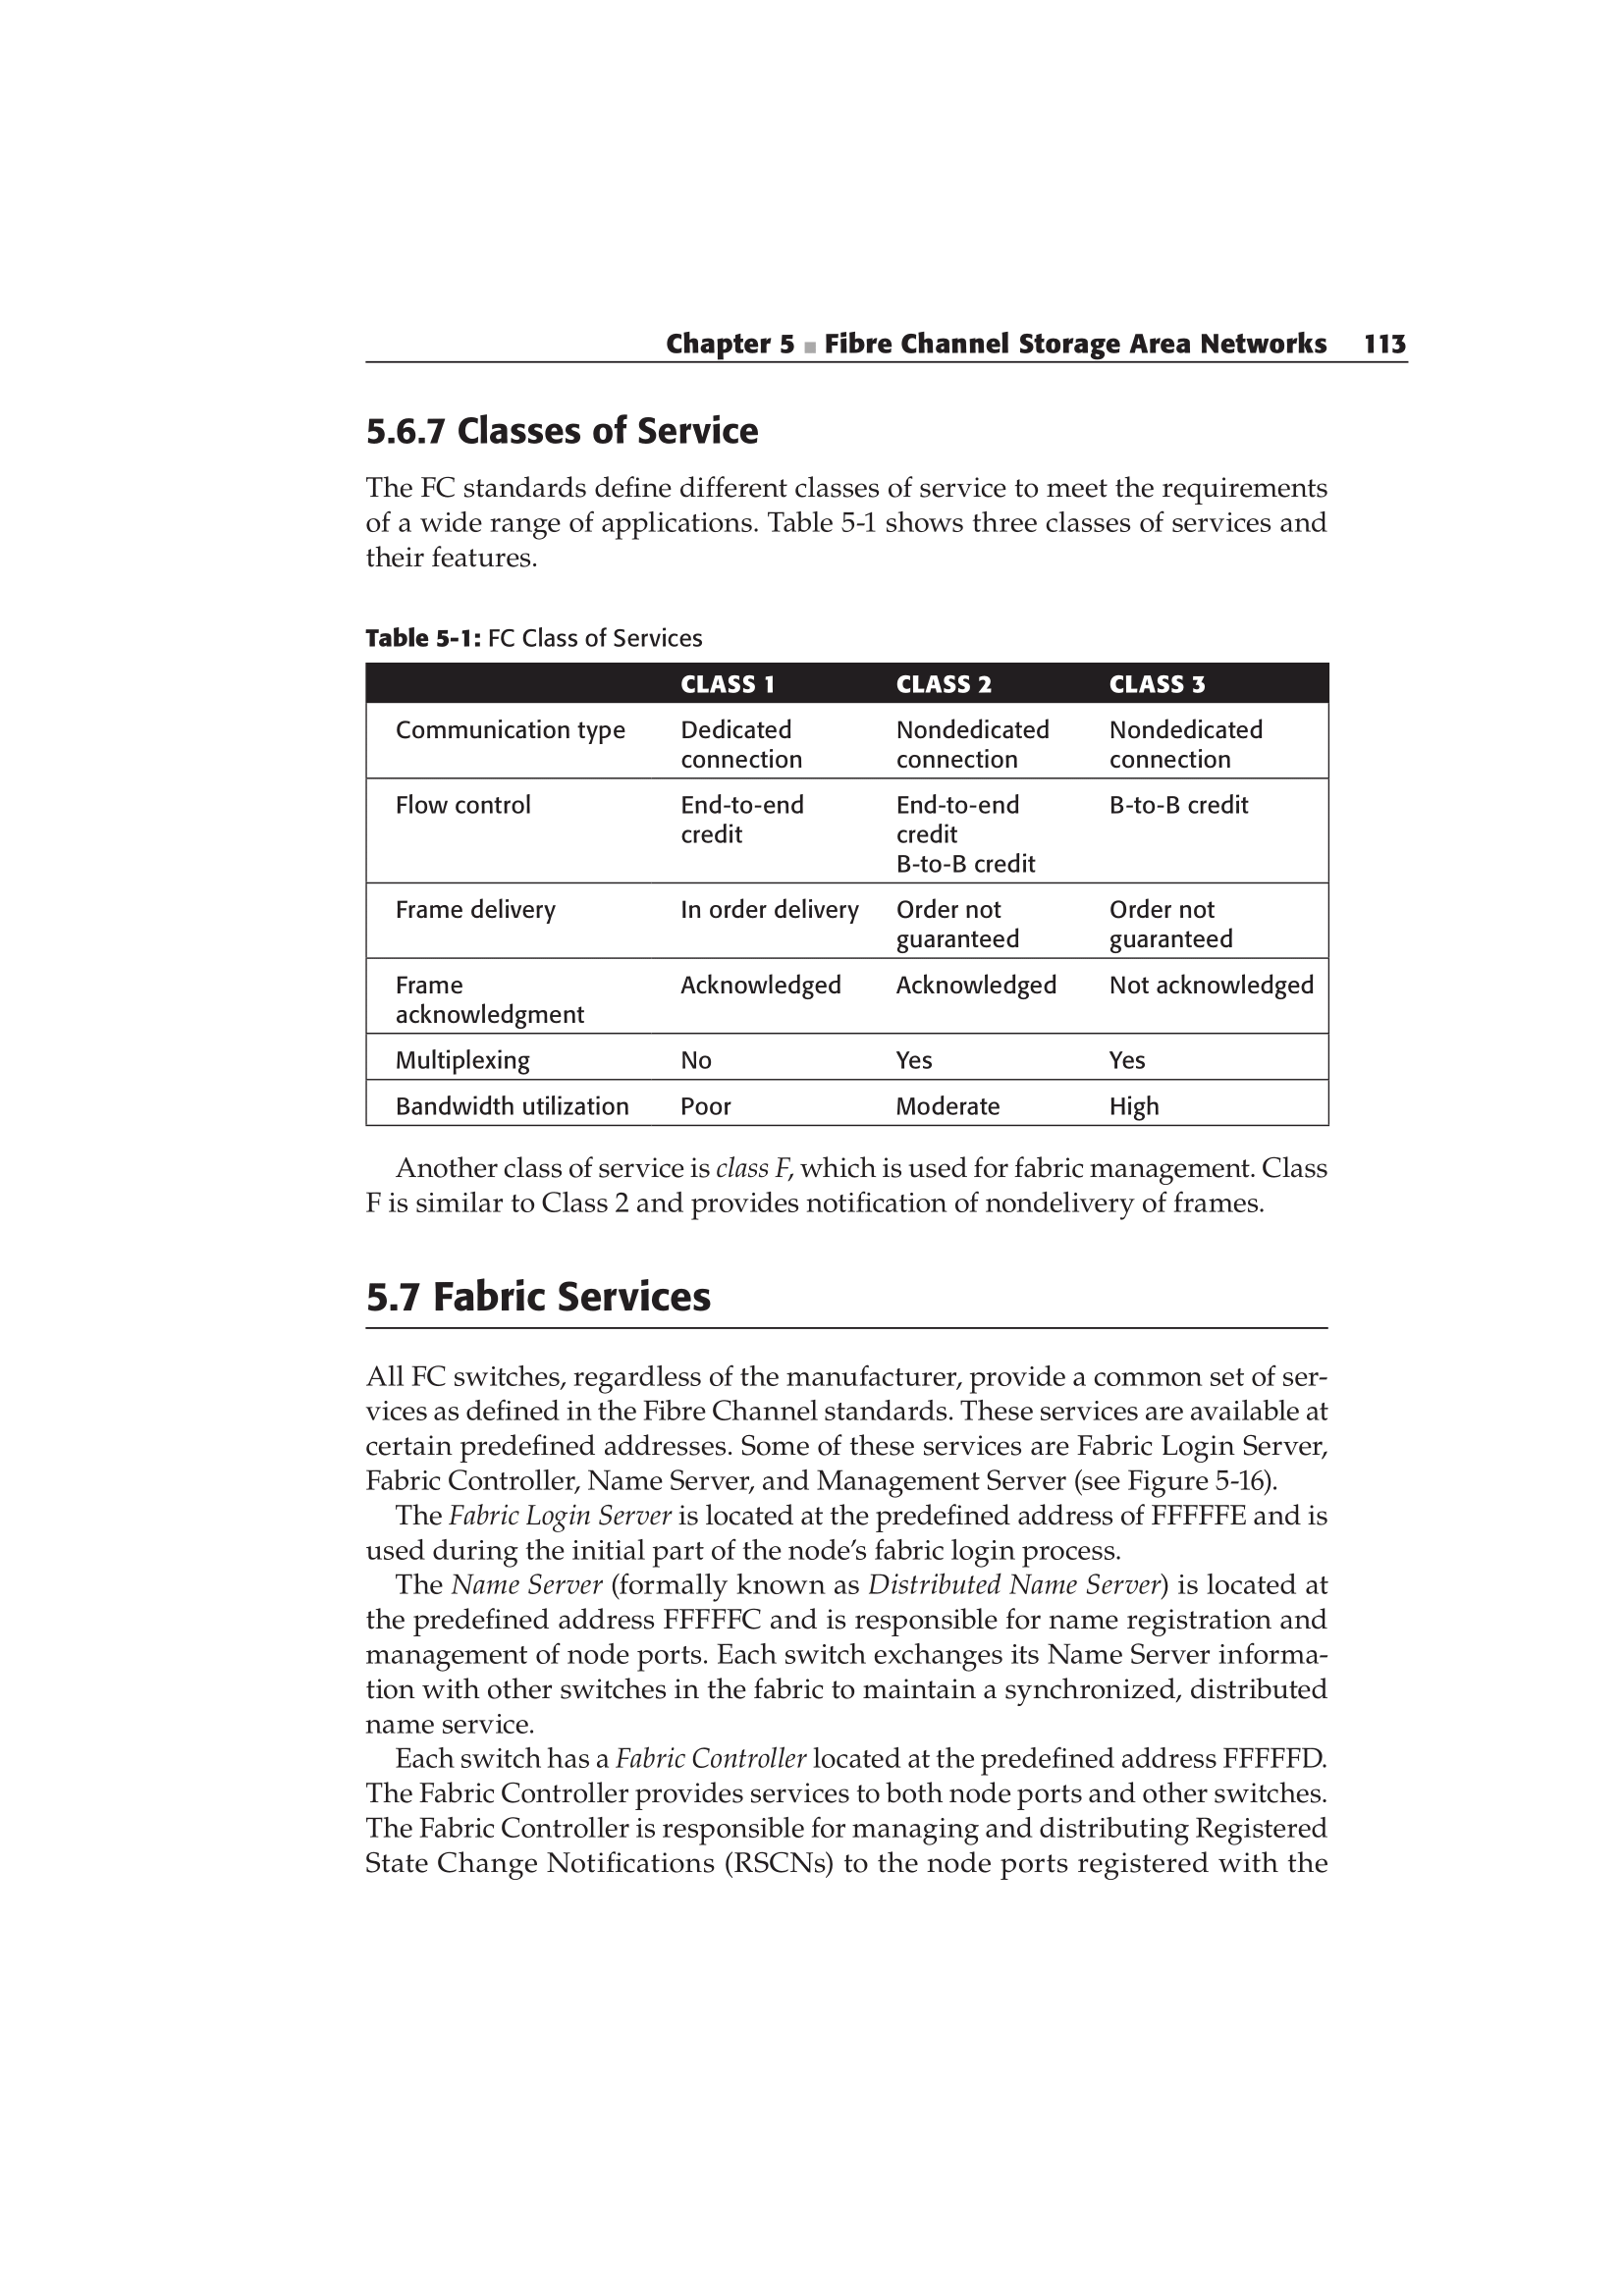Paragraph: (357, 1578, 1347, 1738), (353, 1736, 1333, 1883), (360, 1359, 1335, 1497), (351, 465, 1338, 579), (351, 1152, 1363, 1231), (360, 1501, 1338, 1571), (667, 311, 1433, 365), (350, 1257, 722, 1331), (351, 611, 725, 667), (343, 411, 790, 456), (388, 702, 634, 758), (657, 776, 822, 858), (383, 964, 594, 1027), (891, 793, 1038, 881), (1101, 706, 1282, 772), (885, 883, 1029, 958), (671, 699, 822, 767), (1101, 892, 1256, 958), (383, 885, 585, 936), (1108, 960, 1324, 1004), (383, 1090, 639, 1127), (1107, 785, 1266, 841), (676, 895, 871, 936), (891, 716, 1059, 762), (662, 964, 848, 999), (383, 1041, 543, 1078), (891, 667, 1008, 709), (680, 665, 801, 706), (882, 971, 1063, 997), (892, 1081, 1010, 1120), (383, 790, 557, 813), (1093, 1029, 1151, 1088), (1112, 671, 1226, 700), (685, 1081, 745, 1127), (884, 1043, 949, 1080), (667, 1036, 717, 1073), (1105, 1094, 1161, 1116)
